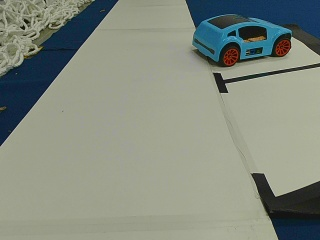car: (192, 17, 291, 64)
